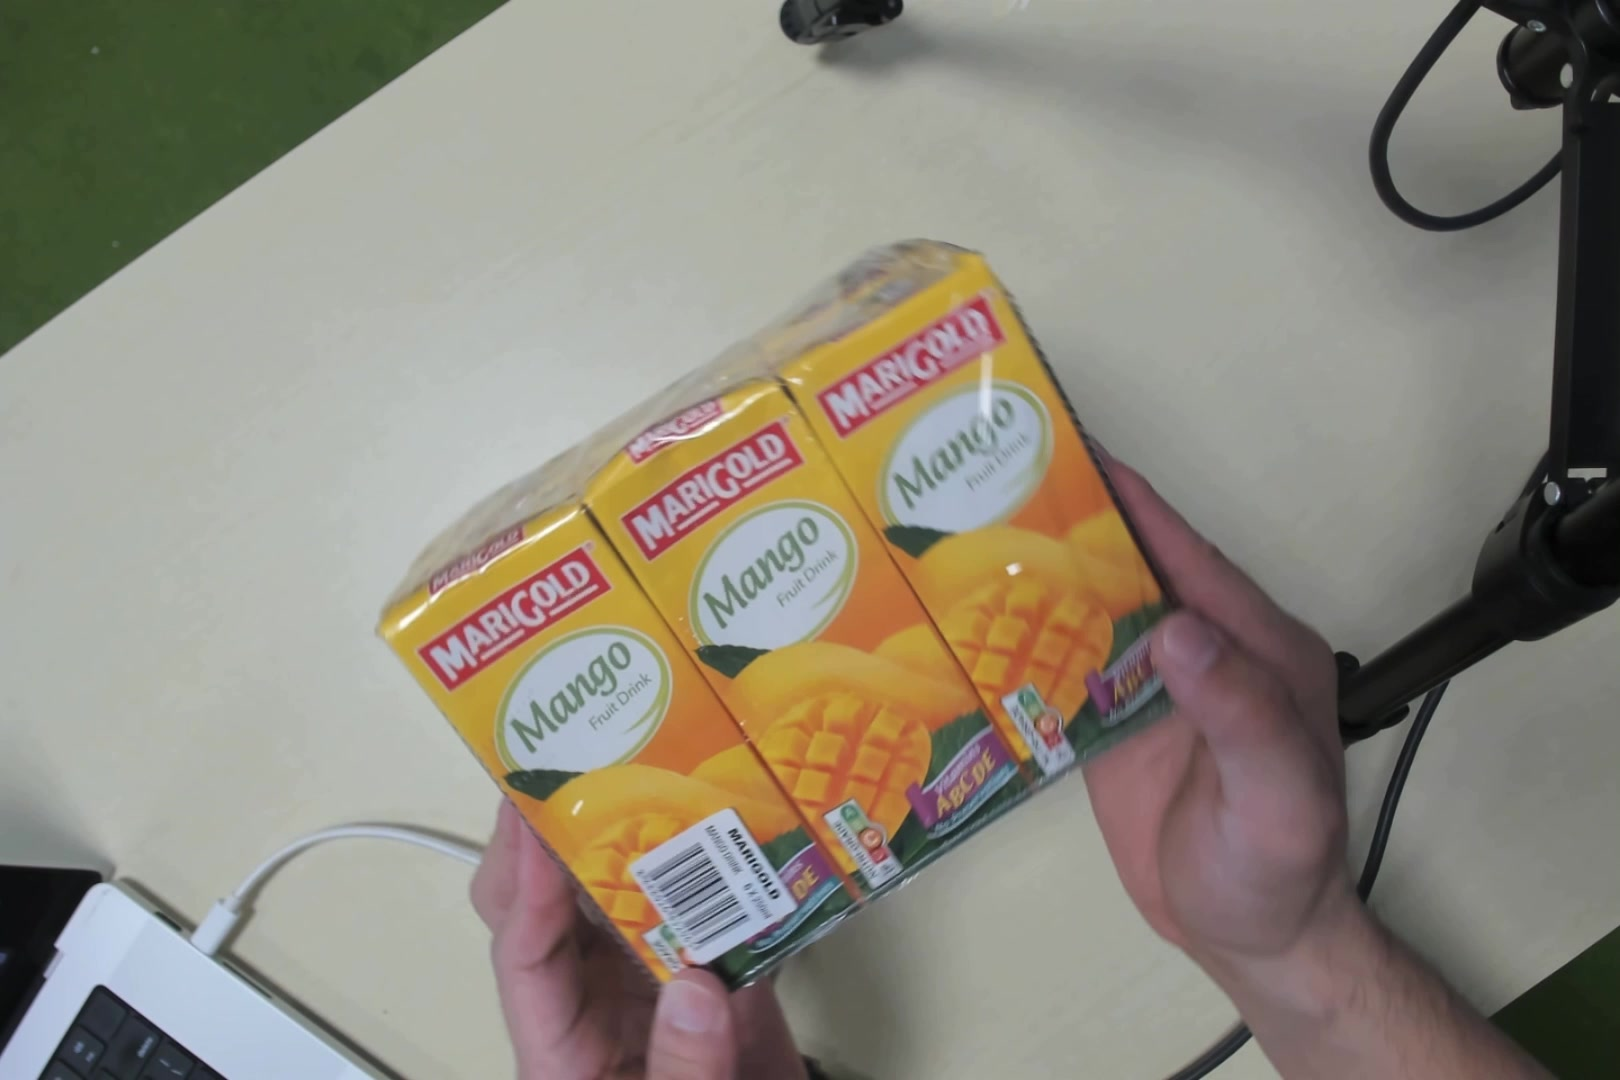FruitJuice_700-799g_Halal_NonHealthy: (475, 290, 1113, 929)
